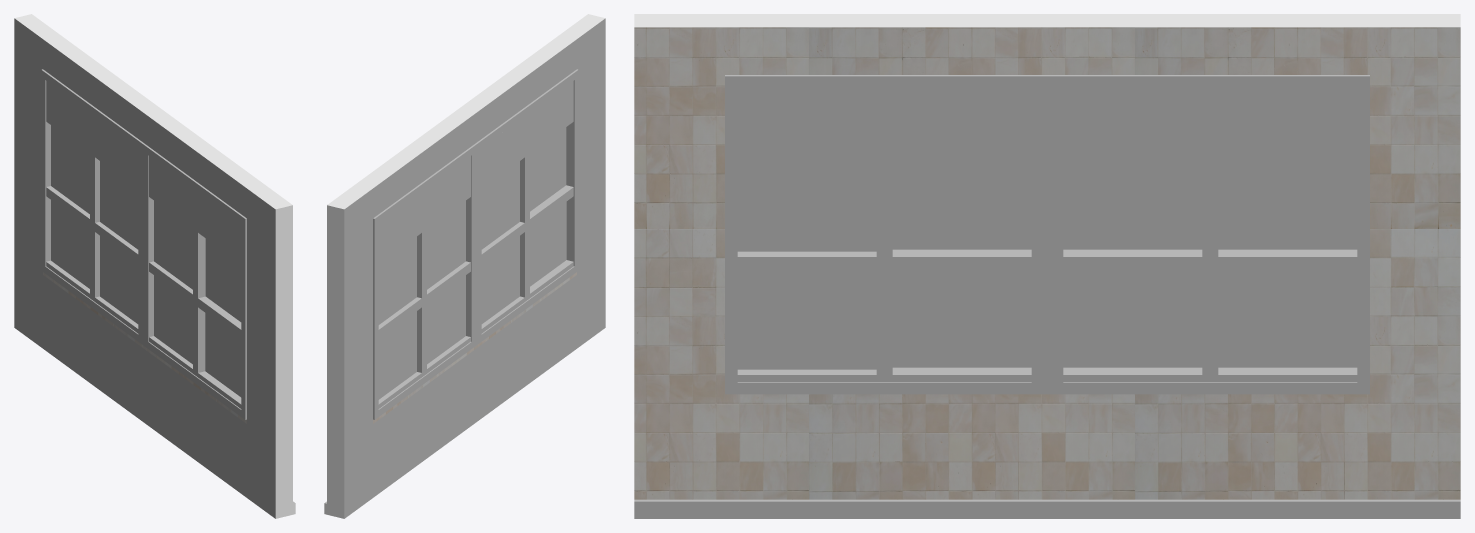
Rendered from Pared_ext_ventana.fbx.
The picture shows the model from 3 angles, left to right: view 1: azimuth 30°, elevation 25°; view 2: azimuth 150°, elevation 25°; view 3: azimuth 270°, elevation 25°; orthographic projection. The views are drawn at different scales.
Visible parts, largest first — view 1: Pared_ext_ventana; view 2: Pared_ext_ventana; view 3: Pared_ext_ventana.
Part boxes in pixels (box(x1,y1,x2,y2)): Pared_ext_ventana: box(14, 14, 295, 518); Pared_ext_ventana: box(324, 14, 605, 518); Pared_ext_ventana: box(634, 14, 1460, 518).
Size of what is drawn, in the model's own units: 9.84 by 134 by 205.
